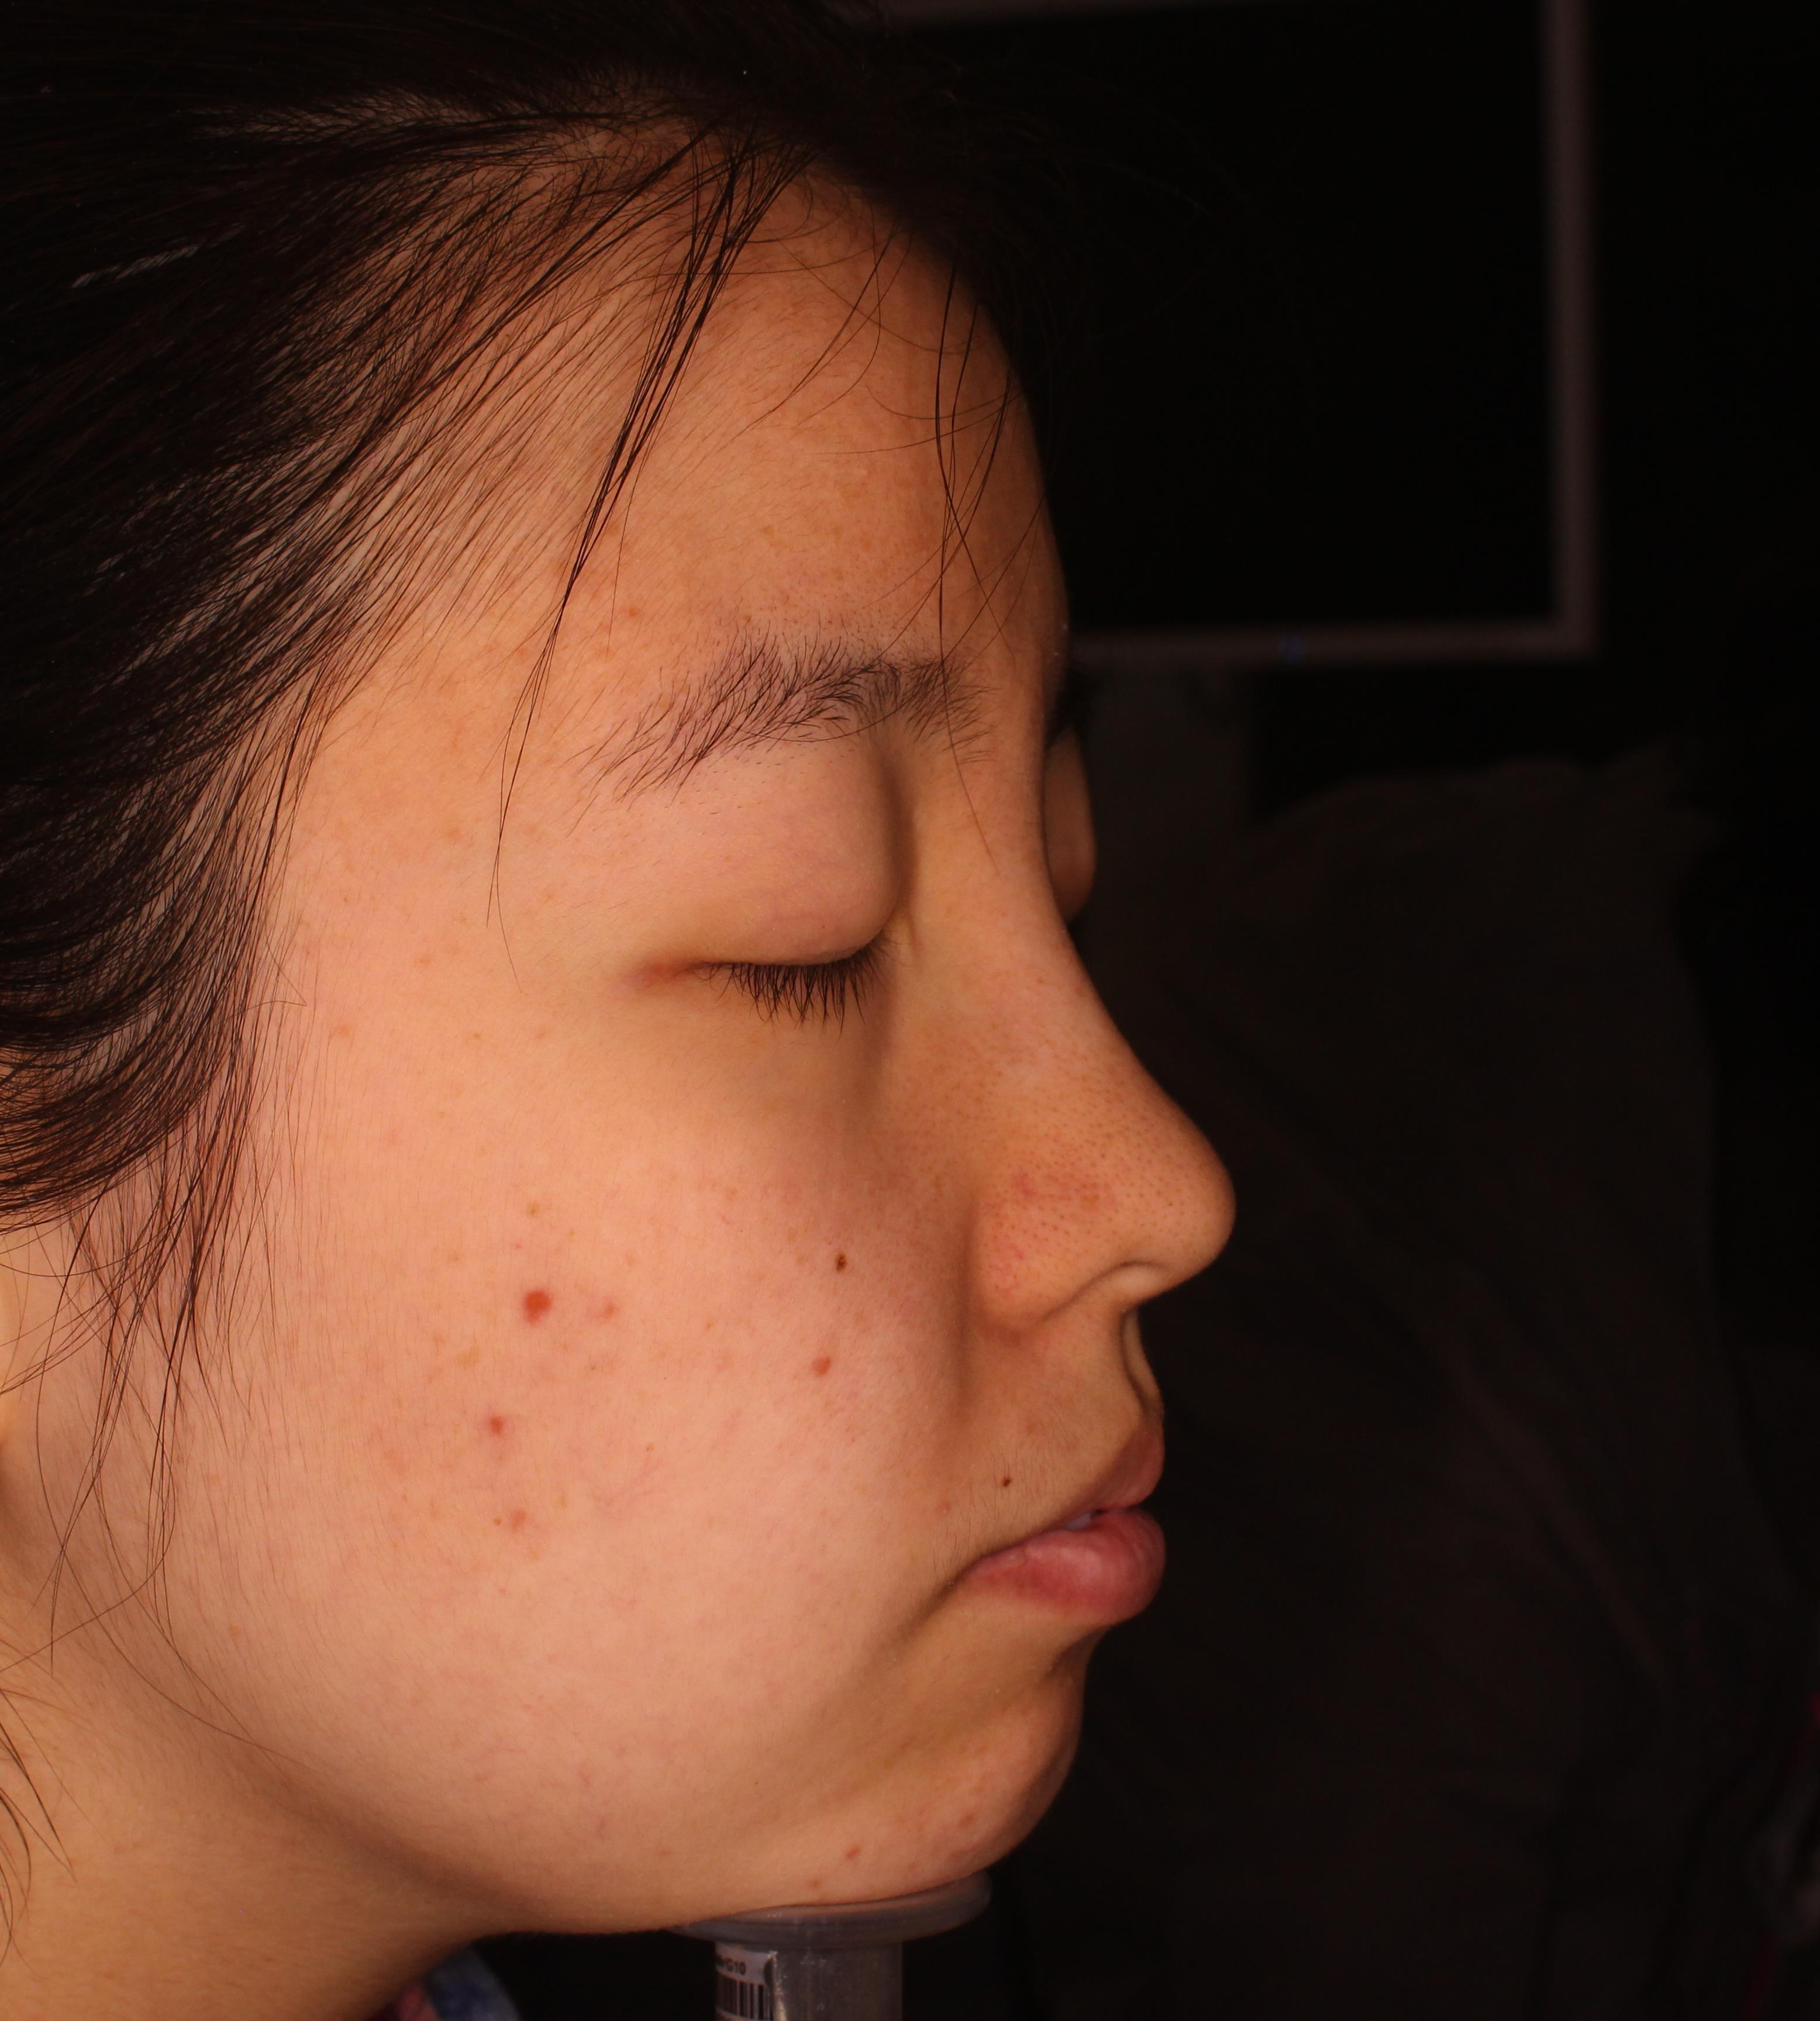fore: (502, 1271, 583, 1343)
